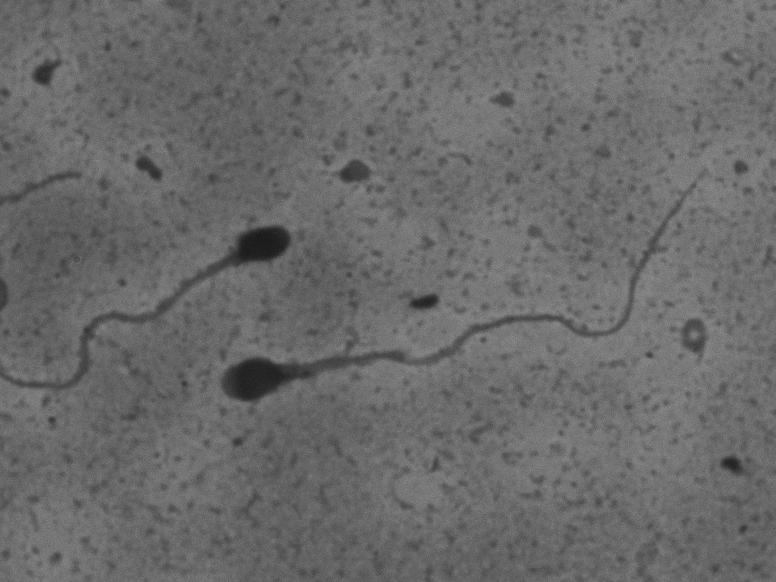Abnormal: (208, 289, 711, 425), (12, 212, 303, 404)
